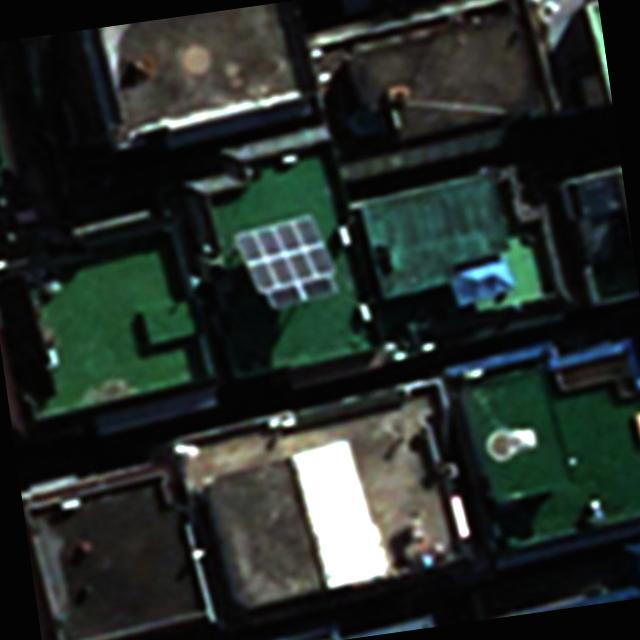solar: (231, 210, 343, 318)
